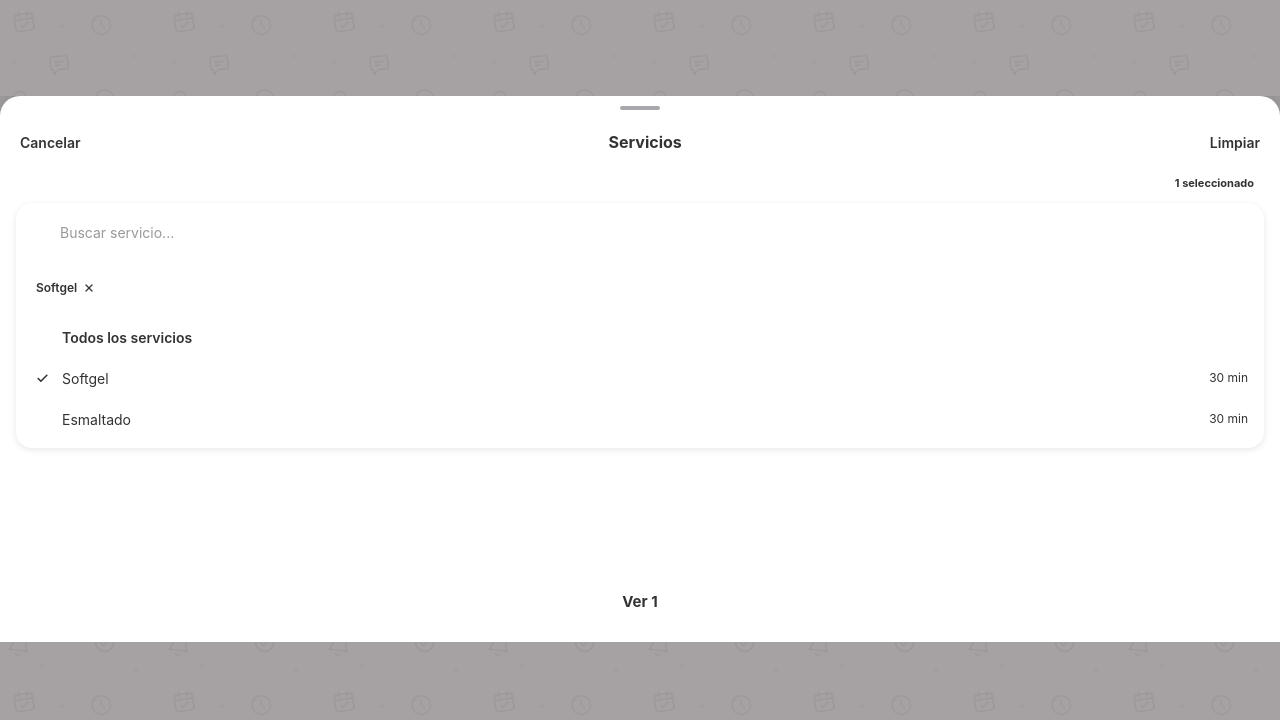
Test: ServiciosSheet › Limpiar vacía el borrador
The image size is (1280, 720).
Expected: the text "Esmaltado" is shown, [62, 411, 131, 428]
Click the button "Limpiar" at (1235, 142), box [1206, 120, 1264, 164]
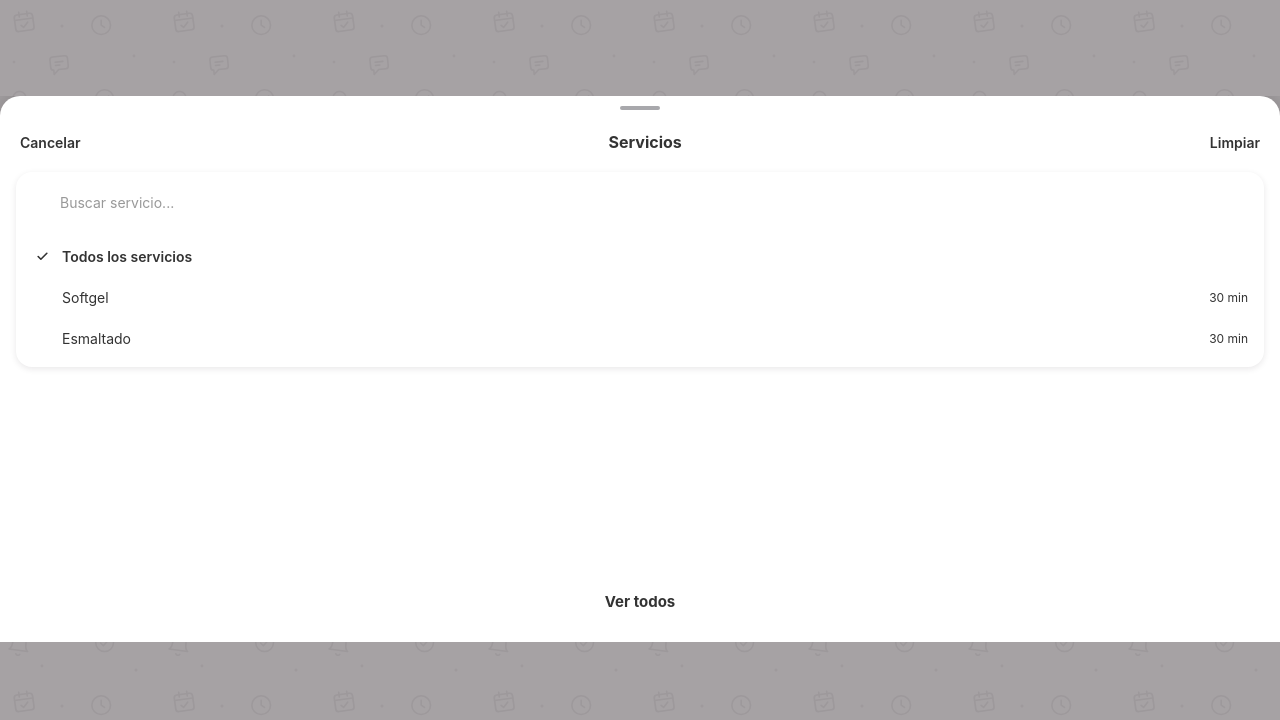
Result: the button "Ver todos" is shown at [16, 578, 1264, 628]
